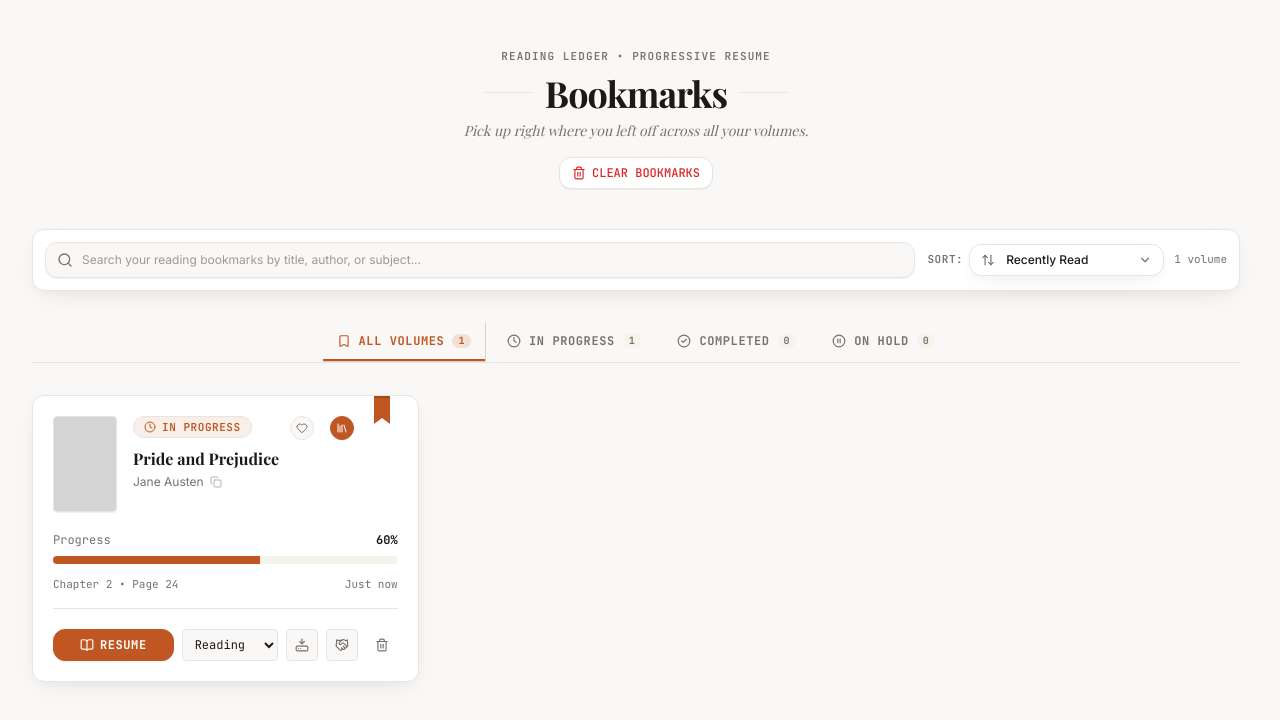
Test case: BookmarksView › renders active volumes and updates filter tabs
Check: the text "Pride and Prejudice" is shown, box x1=133 y1=448 x2=279 y2=468
Check: the text "60%" is shown, box x1=376 y1=532 x2=398 y2=548
Note: Click 'Completed' filter tab
Click the button "Completed 0": (737, 342) x1=663 y1=322 x2=810 y2=360
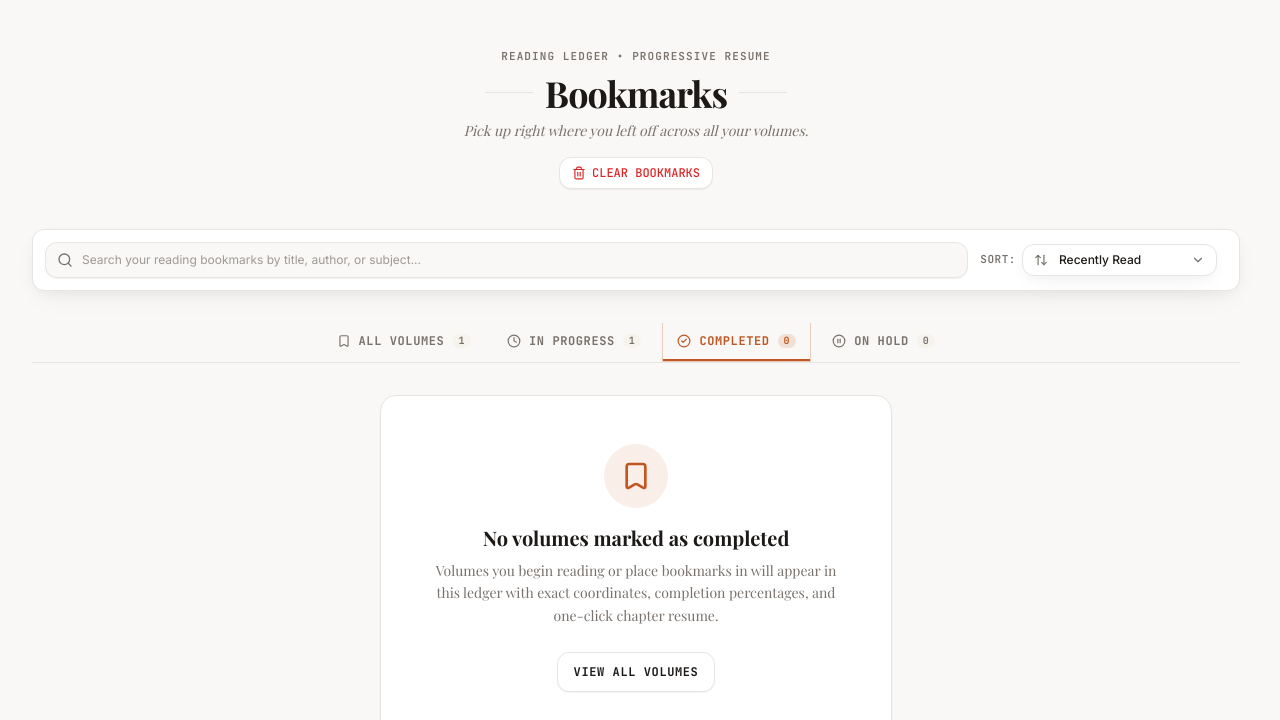
Check: the heading "No volumes marked as completed" is shown, box x1=483 y1=524 x2=789 y2=550
Check: the button "Pride and Prejudice" is gone
Note: Click 'In Progress' tab
Click the button "In Progress 1": (574, 342) x1=493 y1=322 x2=655 y2=360
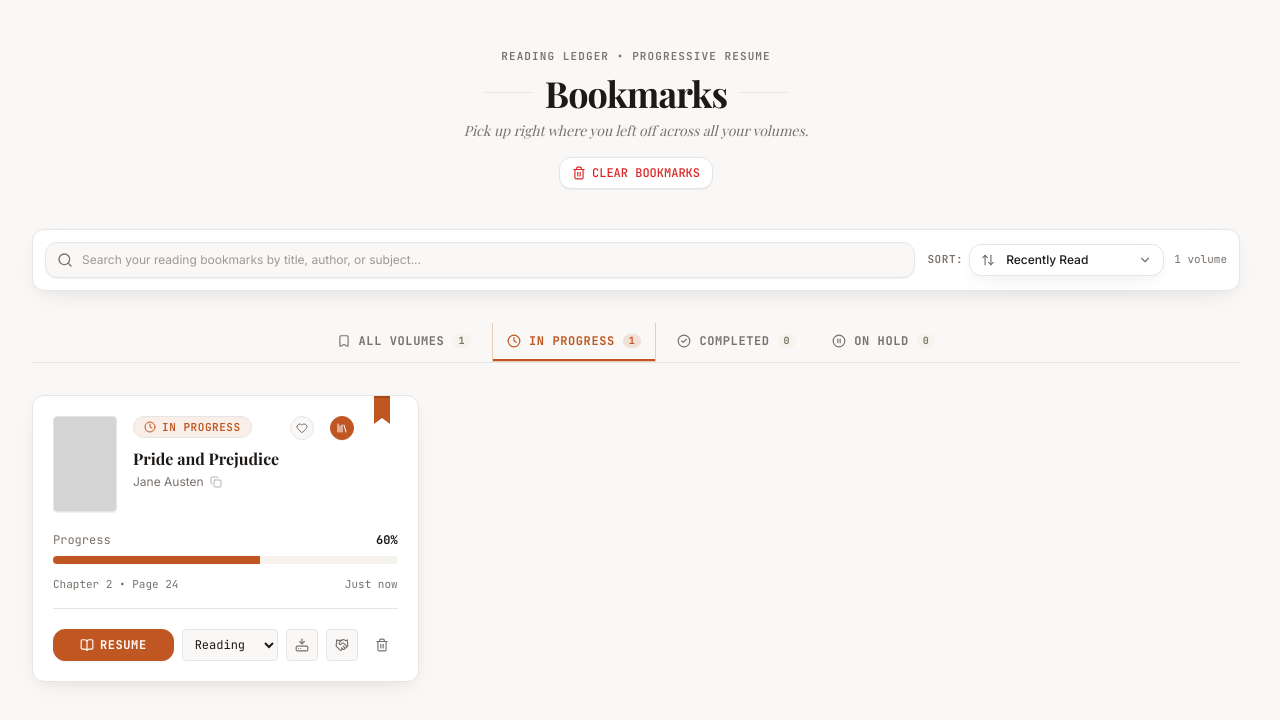
Check: the text "Pride and Prejudice" is shown, box x1=133 y1=448 x2=279 y2=468
